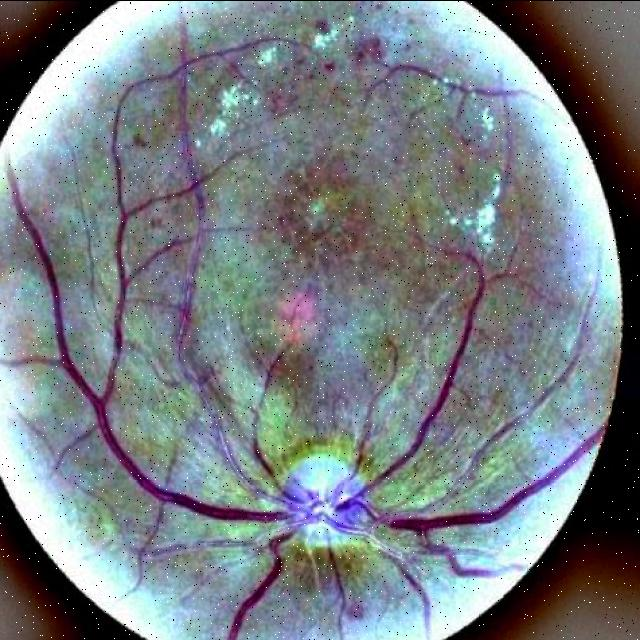Macula: (271, 169, 340, 349)
Nerves: (10, 174, 530, 549)
Optic Disk: (238, 426, 395, 575)
